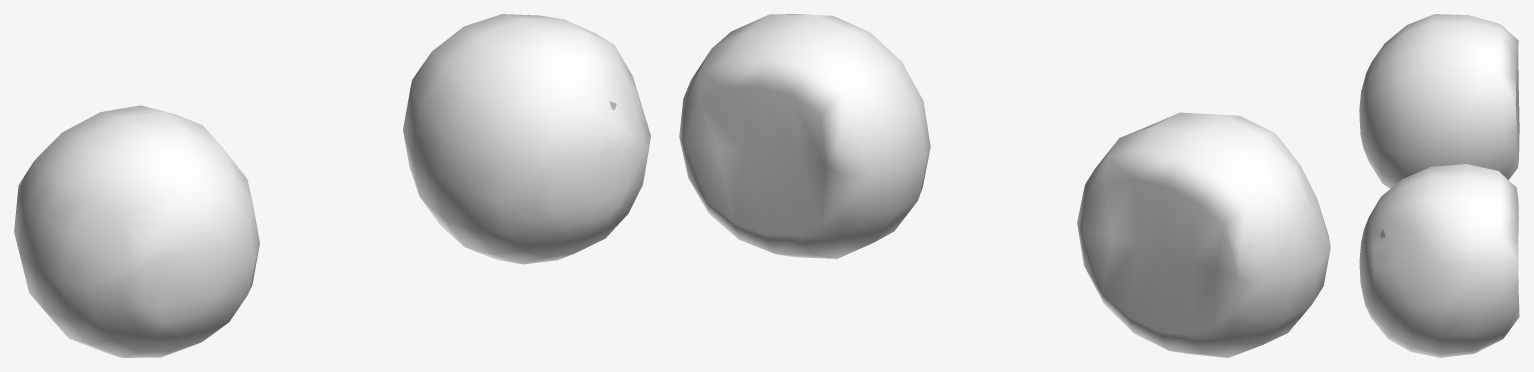
The model's file is G1_eyes.fbx.
3 renders of one model, left to right at view 1: azimuth 30°, elevation 25°; view 2: azimuth 150°, elevation 25°; view 3: azimuth 270°, elevation 25°, orthographic. The views are drawn at different scales.
Visible parts, largest first — view 1: G1_left eye, G1_right eye; view 2: G1_left eye, G1_right eye; view 3: G1_left eye, G1_right eye.
Boxes of the visible parts, x1=… form: G1_left eye: x1=403, y1=14, x2=650, y2=264; G1_right eye: x1=14, y1=105, x2=259, y2=357; G1_left eye: x1=679, y1=14, x2=930, y2=258; G1_right eye: x1=1077, y1=112, x2=1330, y2=357; G1_left eye: x1=1359, y1=164, x2=1519, y2=357; G1_right eye: x1=1359, y1=14, x2=1519, y2=188.
Size of the model in its own units: 9.71 by 3.41 by 2.83.
